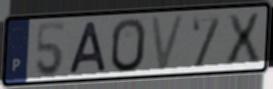5: (36, 19, 68, 80)
7: (190, 13, 223, 71)
A: (67, 20, 109, 77)
O: (110, 16, 148, 74)
V: (148, 12, 188, 74)
X: (225, 10, 263, 67)
